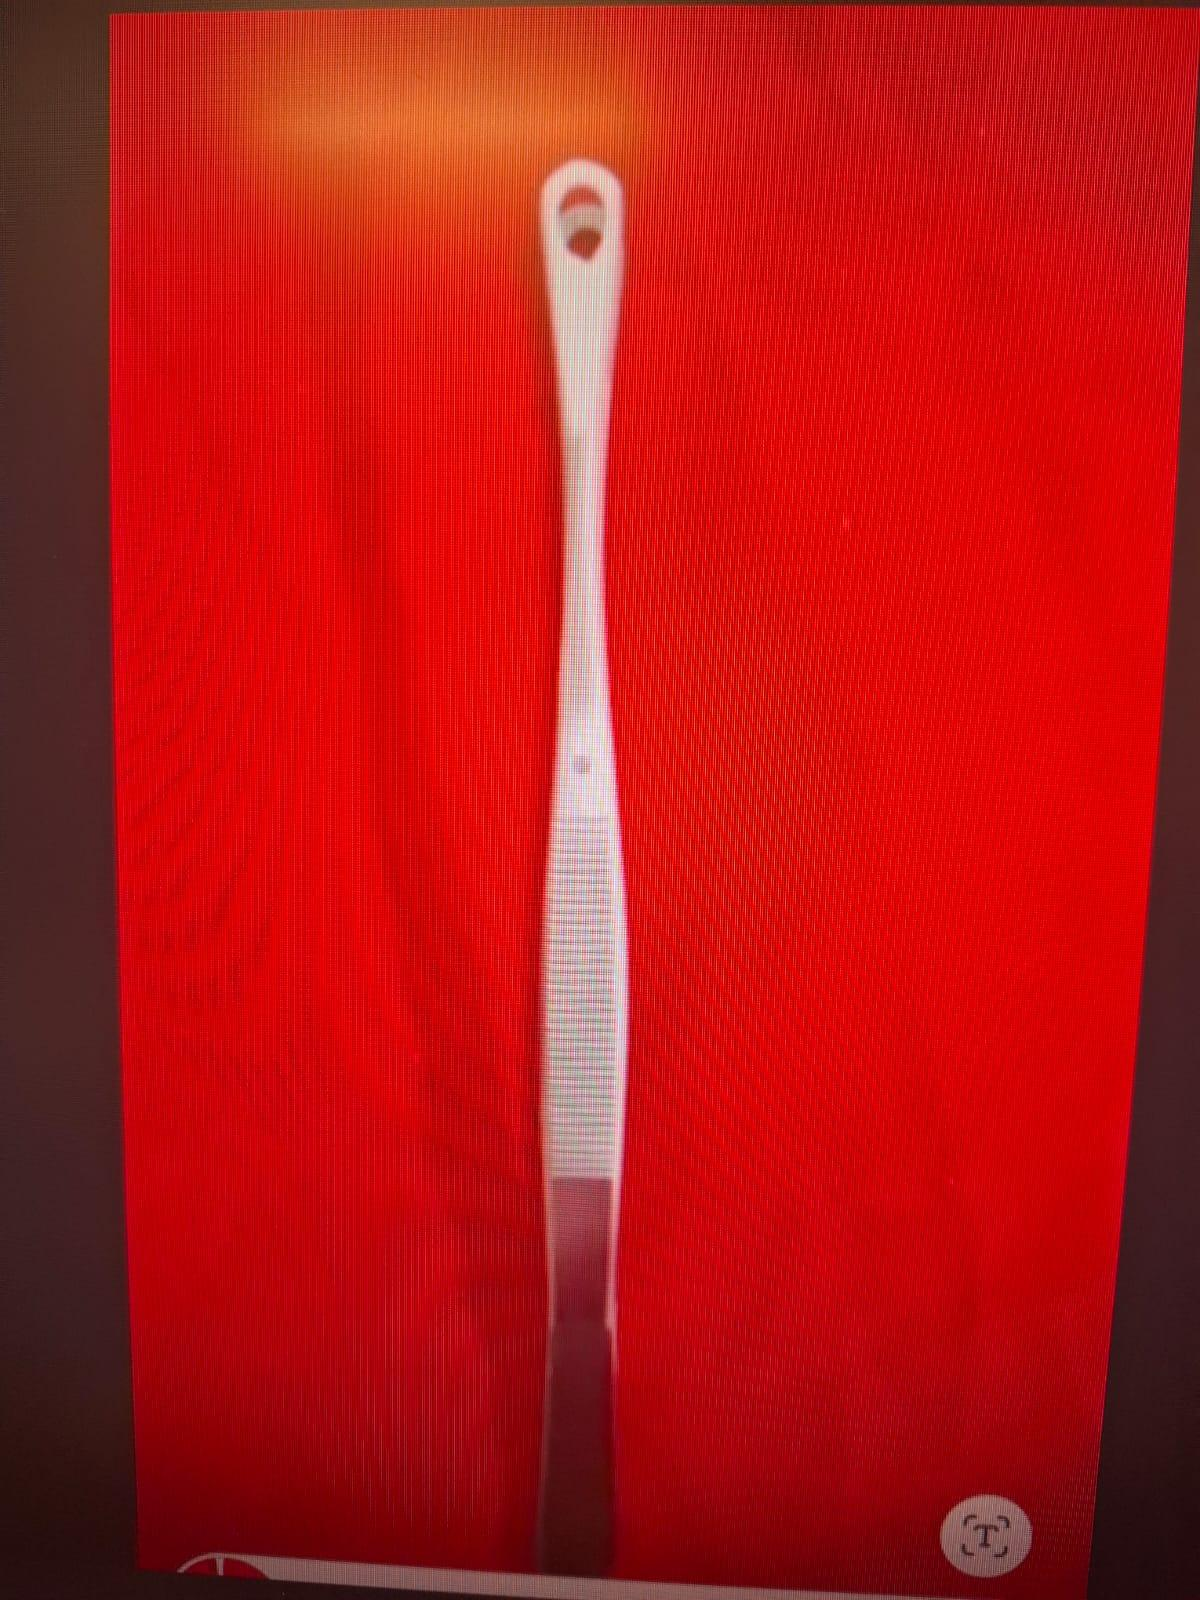Eye Intestinal Forceps: (493, 145, 671, 1575)
